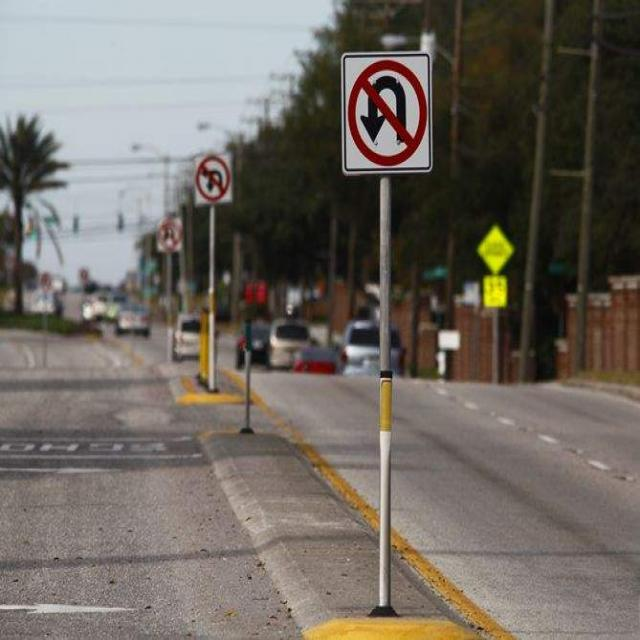no u turn: (347, 58, 429, 166)
